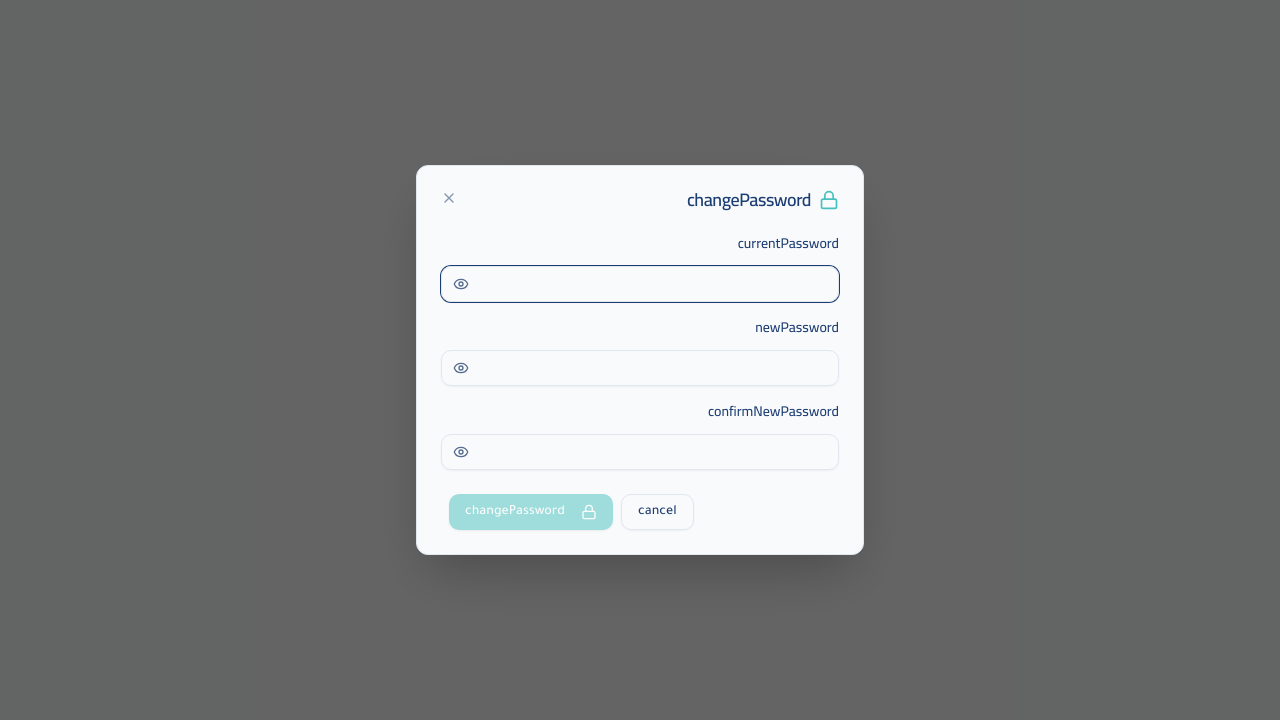
Test: PasswordChangeDialog — Task #470 › submit button is disabled while request is in flight
Type "Old@1234!" into the password field with test id "parent-password-current-input".
click(640, 284); type("Old@1234!")  # box [441, 266, 839, 302]
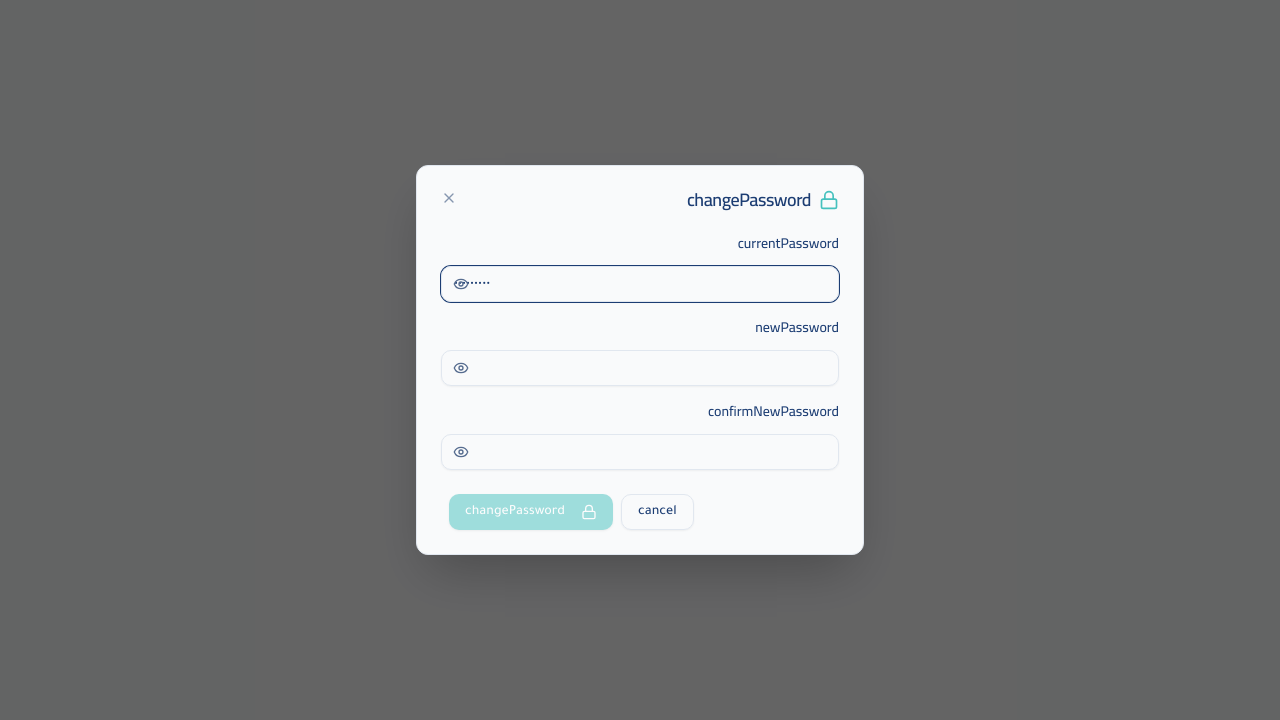
Type "Brand@New4567!" into the password field with test id "parent-password-new-input".
click(640, 368); type("Brand@New4567!")  # box [441, 350, 839, 386]
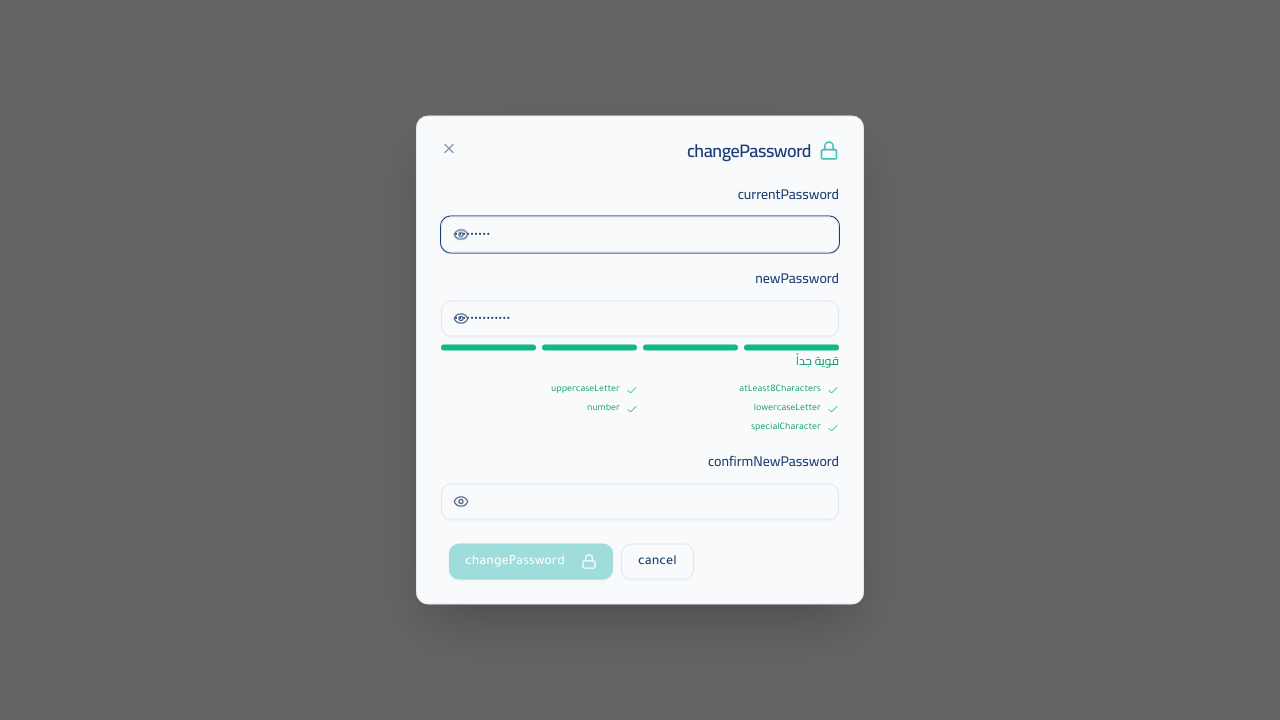
Type "Brand@New4567!" into the password field with test id "parent-password-confirm-input".
click(640, 502); type("Brand@New4567!")  # box [441, 484, 839, 520]
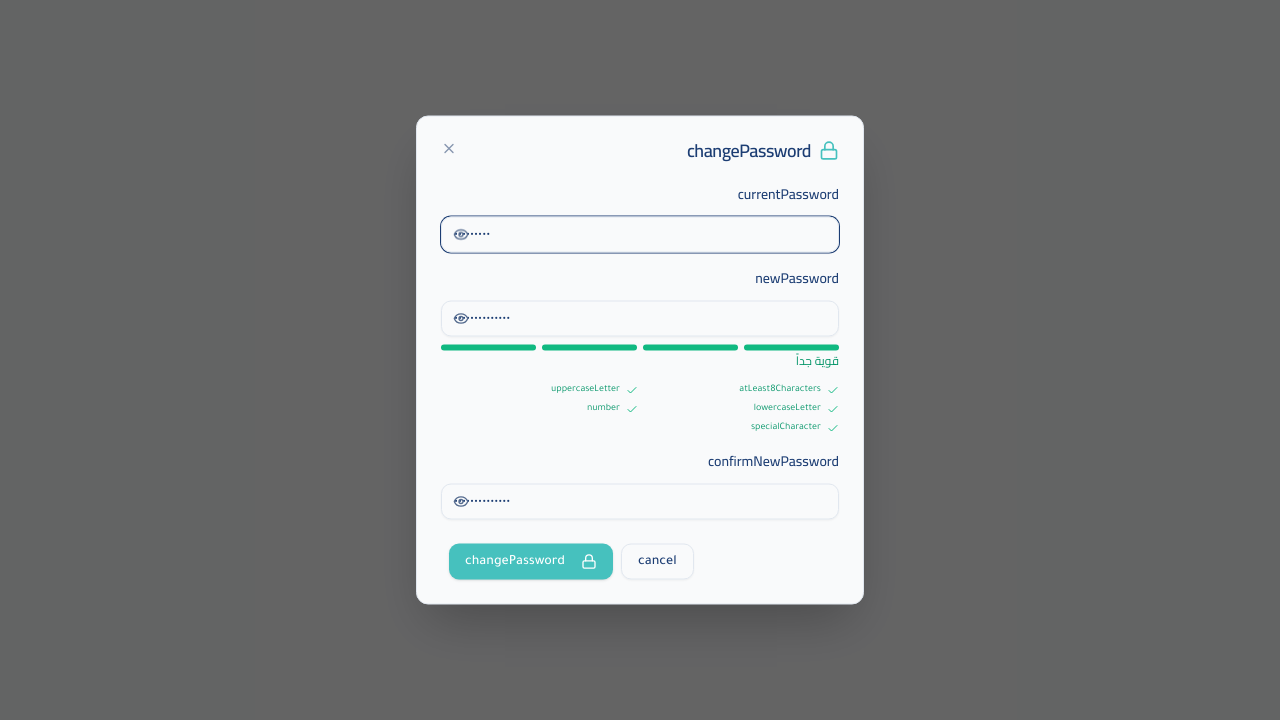
Click the button with test id "parent-password-submit-btn".
click(531, 562)  # box [449, 544, 613, 580]
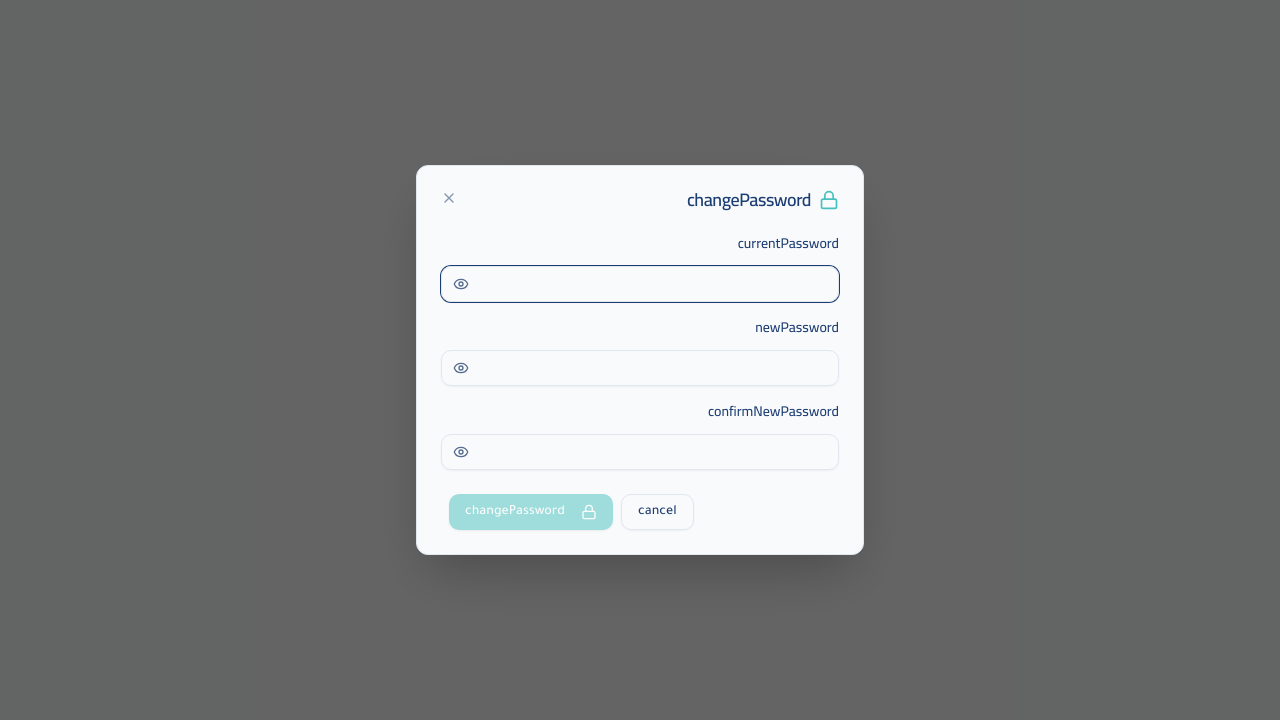
Result: the button with test id "parent-password-submit-btn" is disabled at [449, 494, 613, 530]
